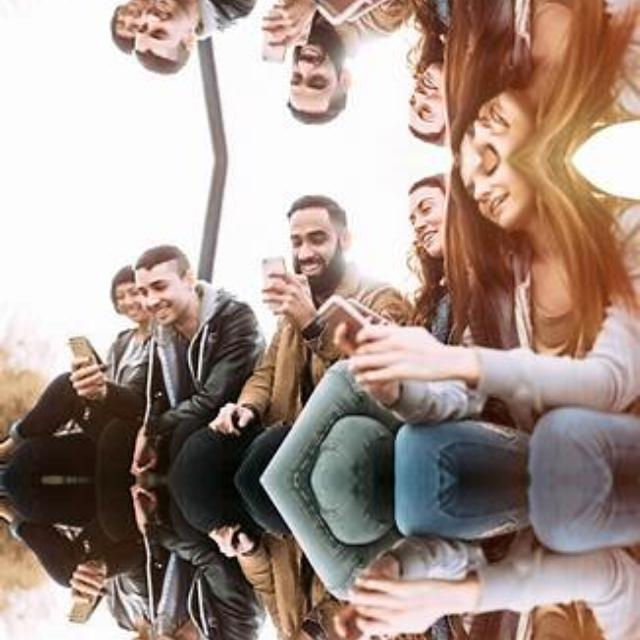person: (460, 160, 622, 456), (237, 190, 355, 412), (460, 0, 622, 159), (460, 504, 622, 640), (128, 242, 236, 392), (237, 0, 355, 130), (237, 548, 355, 640), (127, 0, 236, 78), (127, 567, 236, 640), (394, 45, 456, 158), (394, 162, 456, 274)
